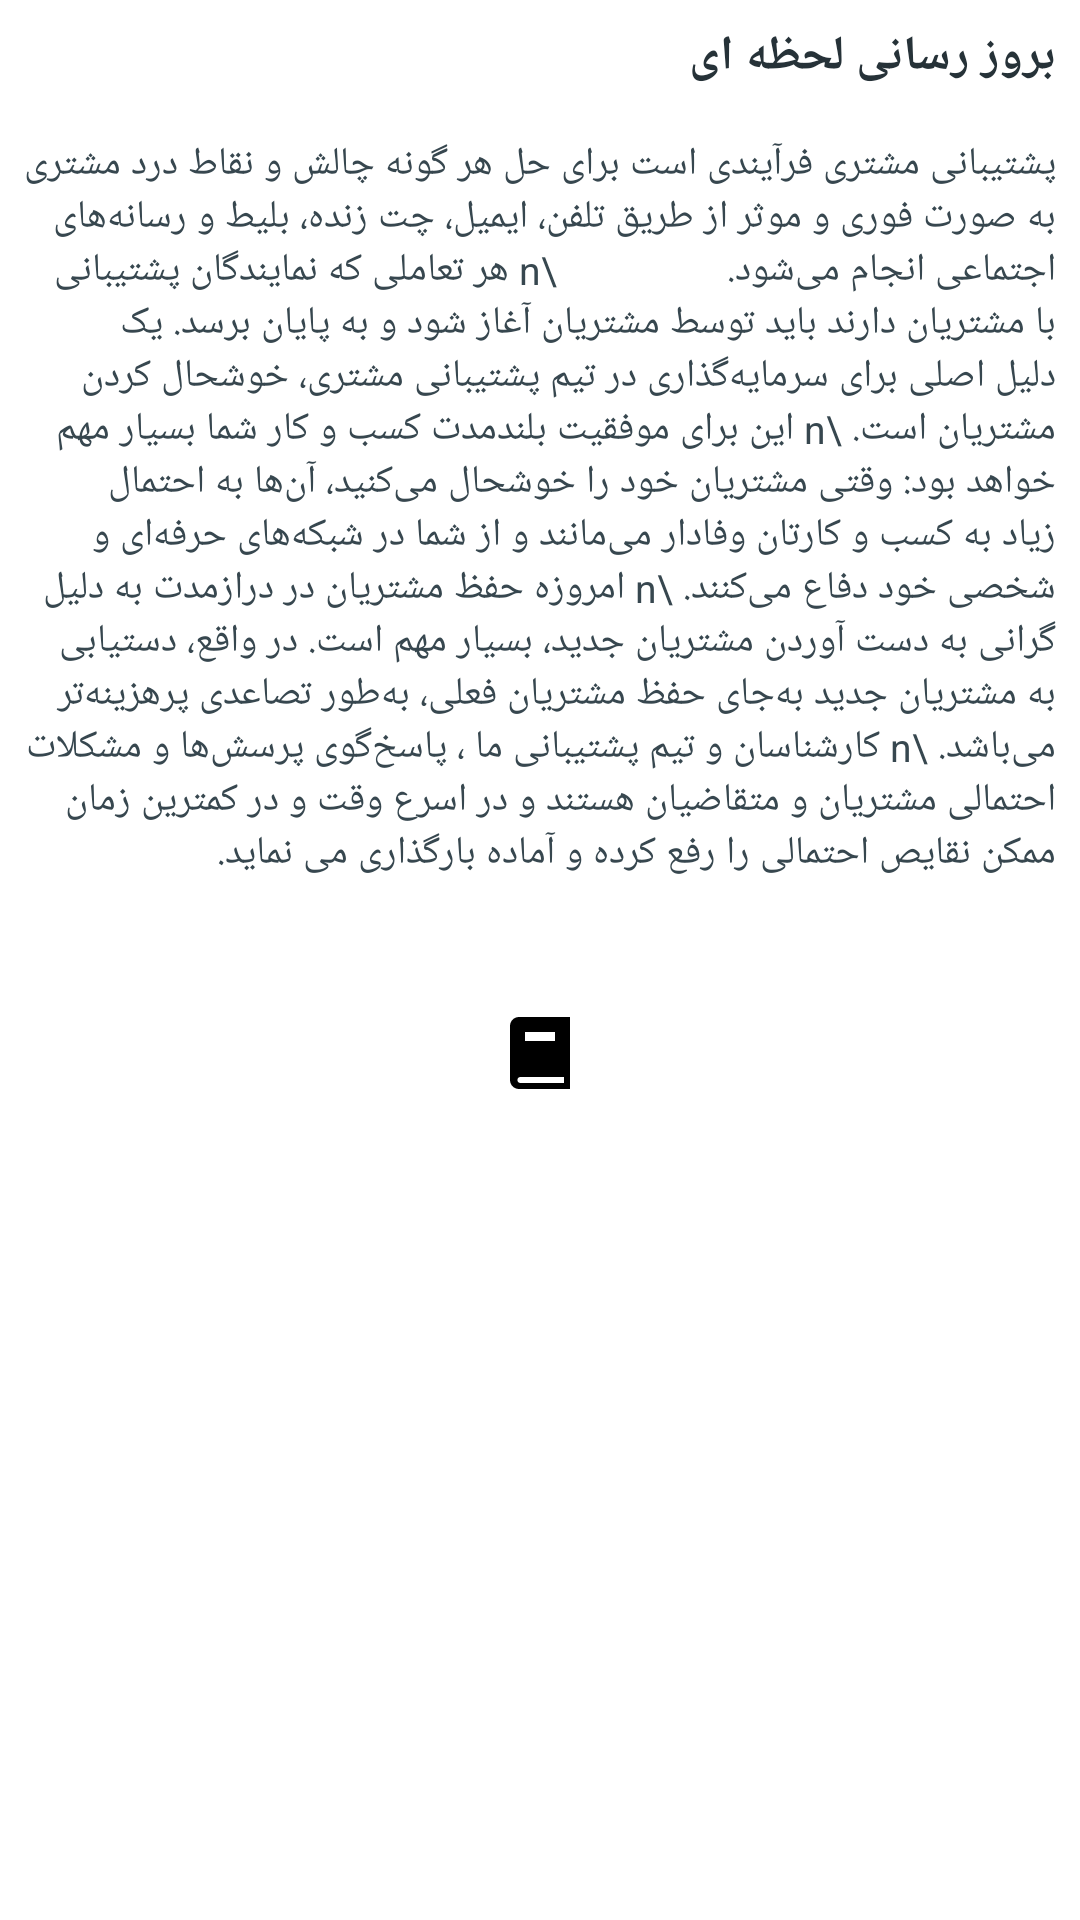

Point at icon controls on the screen. Image size 1080px x 1920px, points as [x,y].
book: [540,1053]
